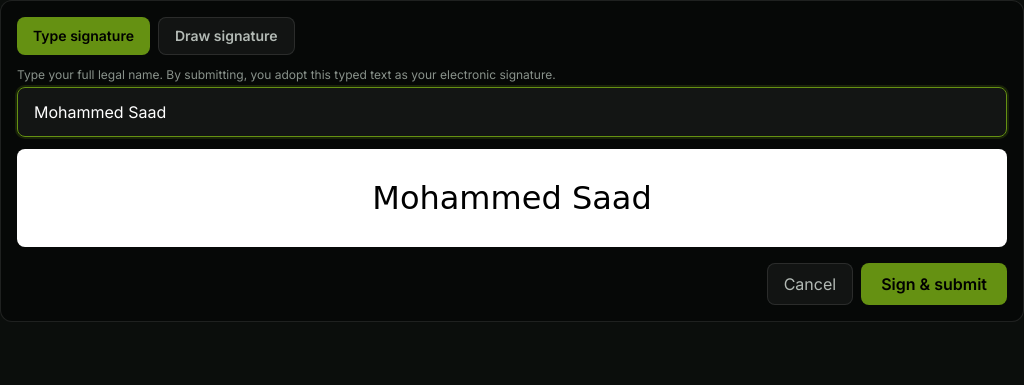
it: SignaturePad › drawn signature tab › switches to the draw tab and renders a canvas + clear button
Click the button "Draw signature".
click(226, 36)  # box top-left (158, 17), bottom-right (294, 55)
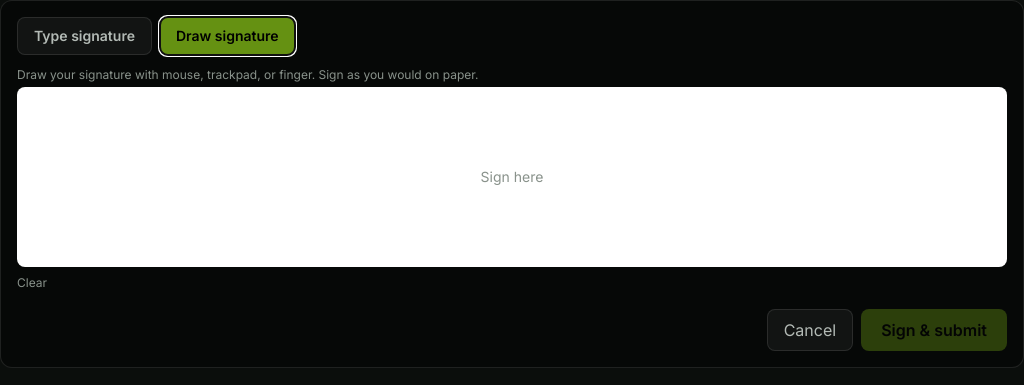
Now the drawing is shown, box top-left (18, 88), bottom-right (1006, 266)
Now the button "Clear" is shown, box top-left (17, 275), bottom-right (47, 291)
